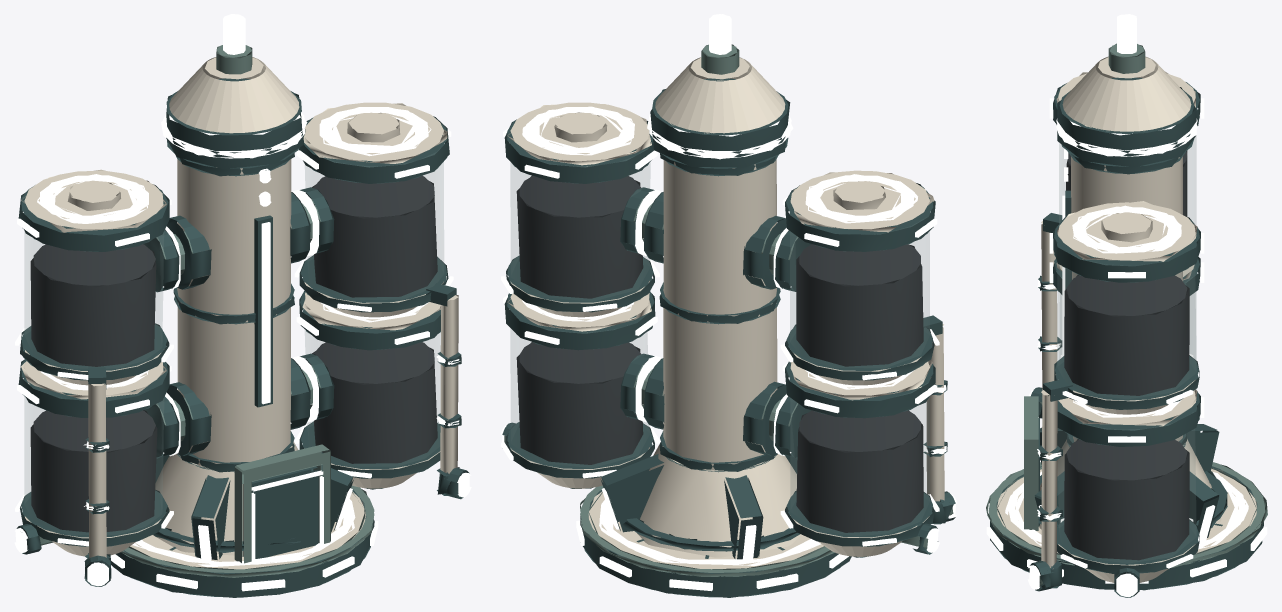
The model's file is Vat_T3_lab.glb.
3 views of the same model, side by side, from view 1: azimuth 30°, elevation 25°; view 2: azimuth 150°, elevation 25°; view 3: azimuth 270°, elevation 25° (orthographic).
Parts seen in each view (by area): view 1: Vat_T3; view 2: Vat_T3; view 3: Vat_T3.
Part boxes in pixels (x1,y1,x2,y2): Vat_T3: (14, 14, 471, 597); Vat_T3: (500, 14, 957, 597); Vat_T3: (986, 14, 1267, 597).
Bounding box in the file's own units: 6.75 × 7.91 × 3.89.
